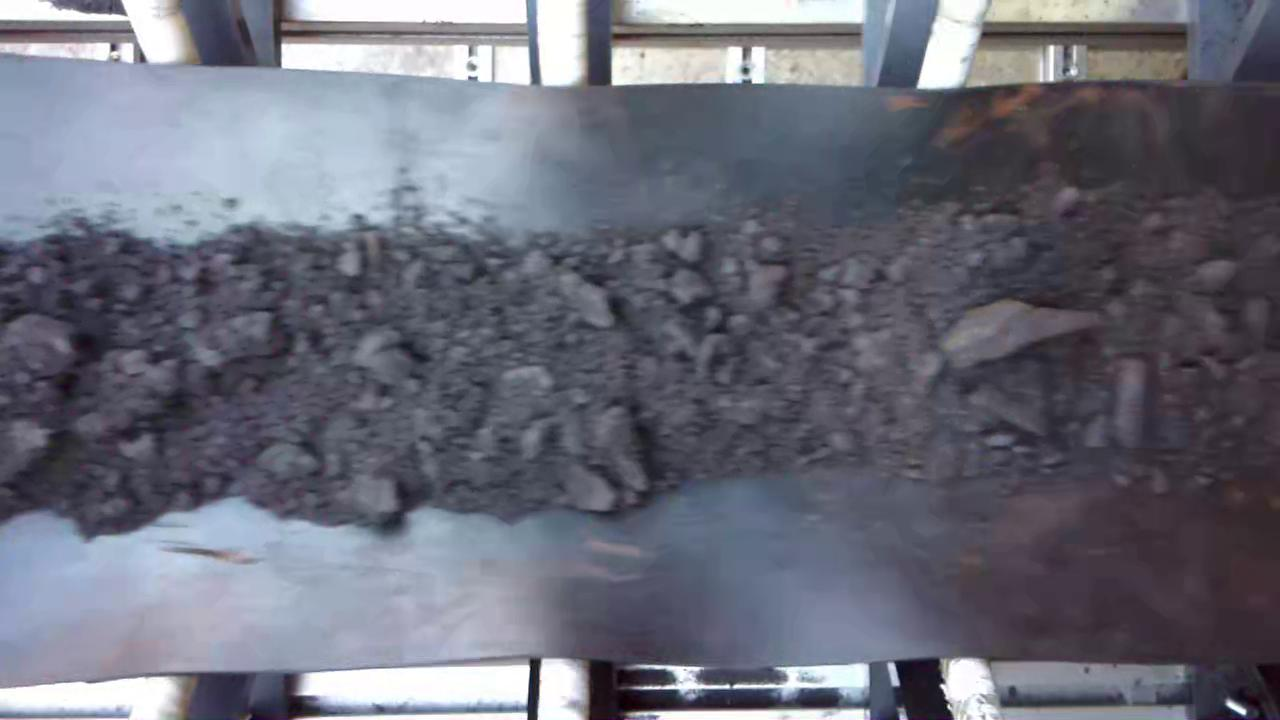conveyor: (15, 98, 1270, 643)
